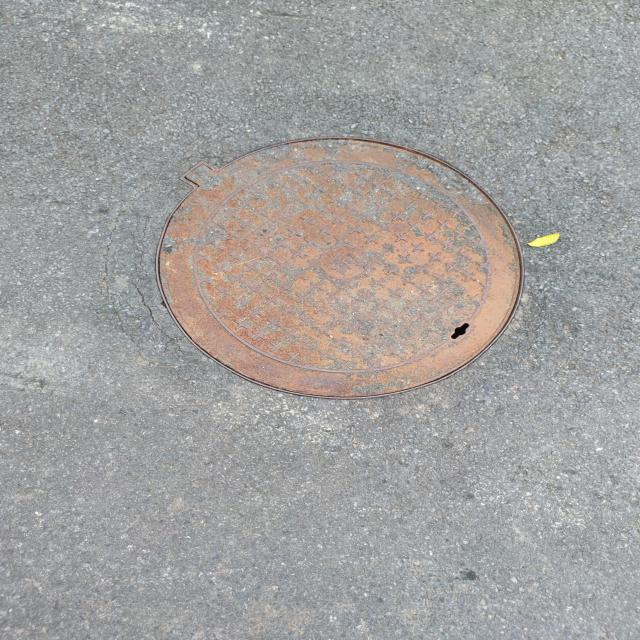Good: (149, 133, 536, 405)
